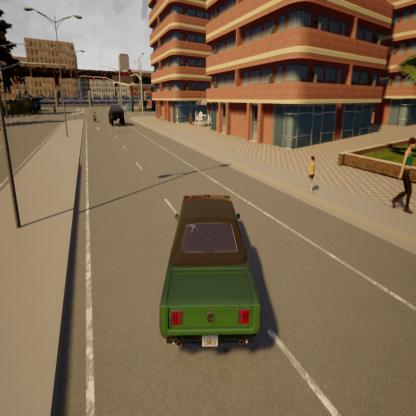Cars: (158, 194, 264, 354), (107, 101, 125, 127), (90, 104, 98, 126)
Pedestrian: (392, 131, 416, 222), (305, 147, 319, 198)
